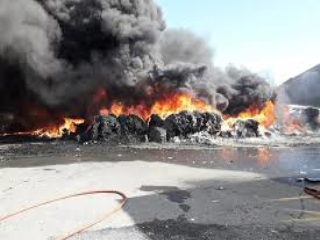fire: (109, 94, 281, 130), (36, 112, 90, 138)
smoke: (11, 4, 268, 102)
